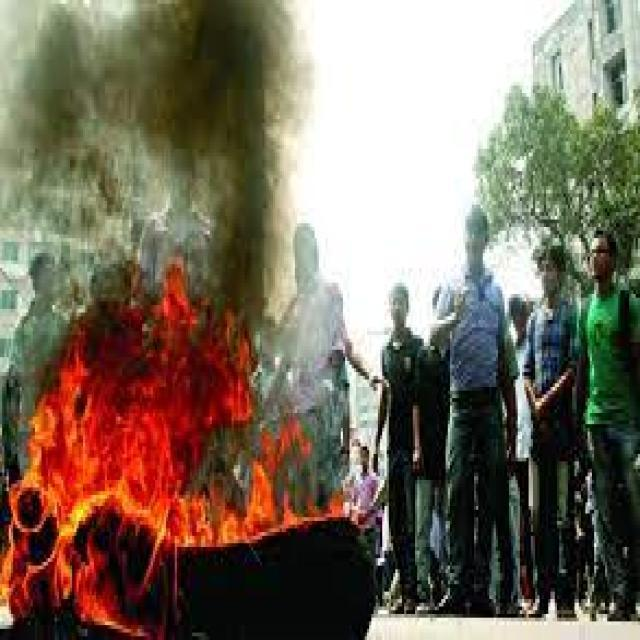Fire: (9, 264, 348, 528), (0, 524, 170, 640), (169, 490, 303, 548)
Smoke: (11, 0, 297, 265), (216, 0, 289, 319), (291, 280, 342, 410)
